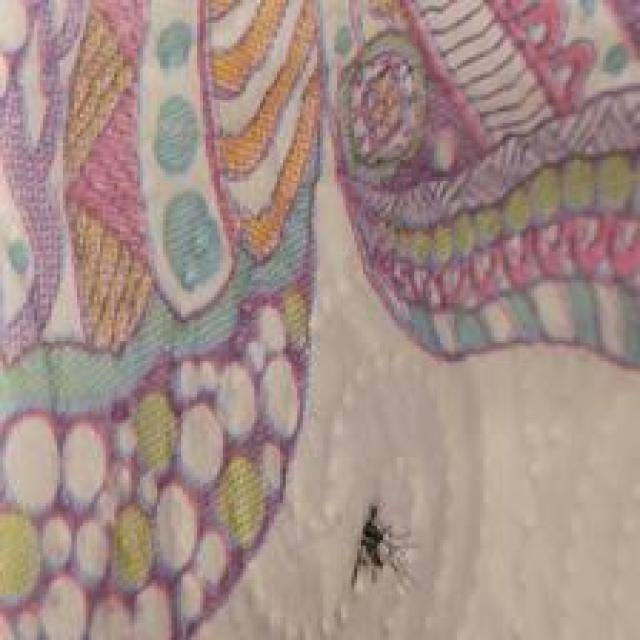Aedes albopictus: (347, 503, 416, 594)
